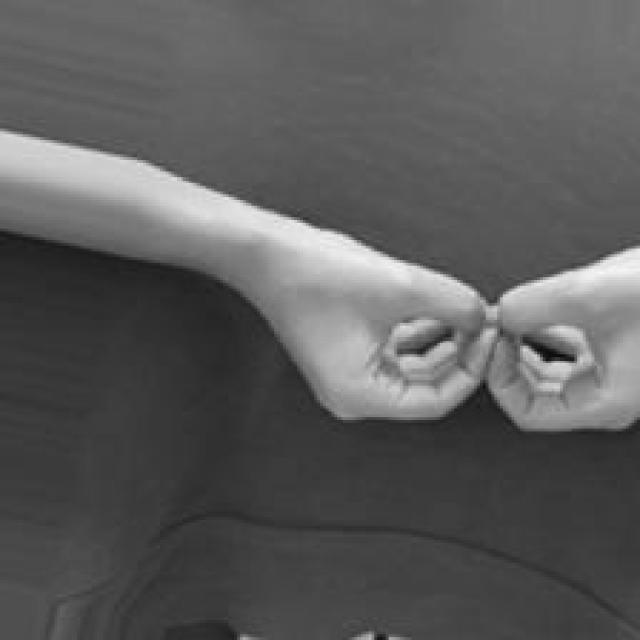B: (256, 200, 640, 431)
